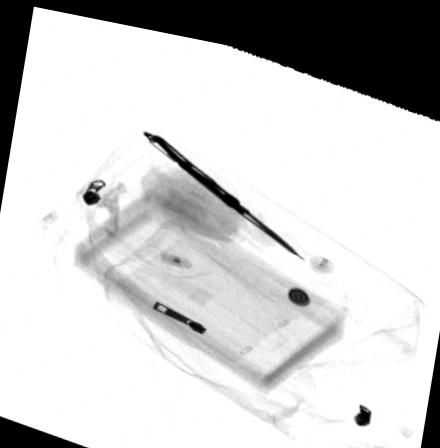Knife: (149, 126, 307, 249)
